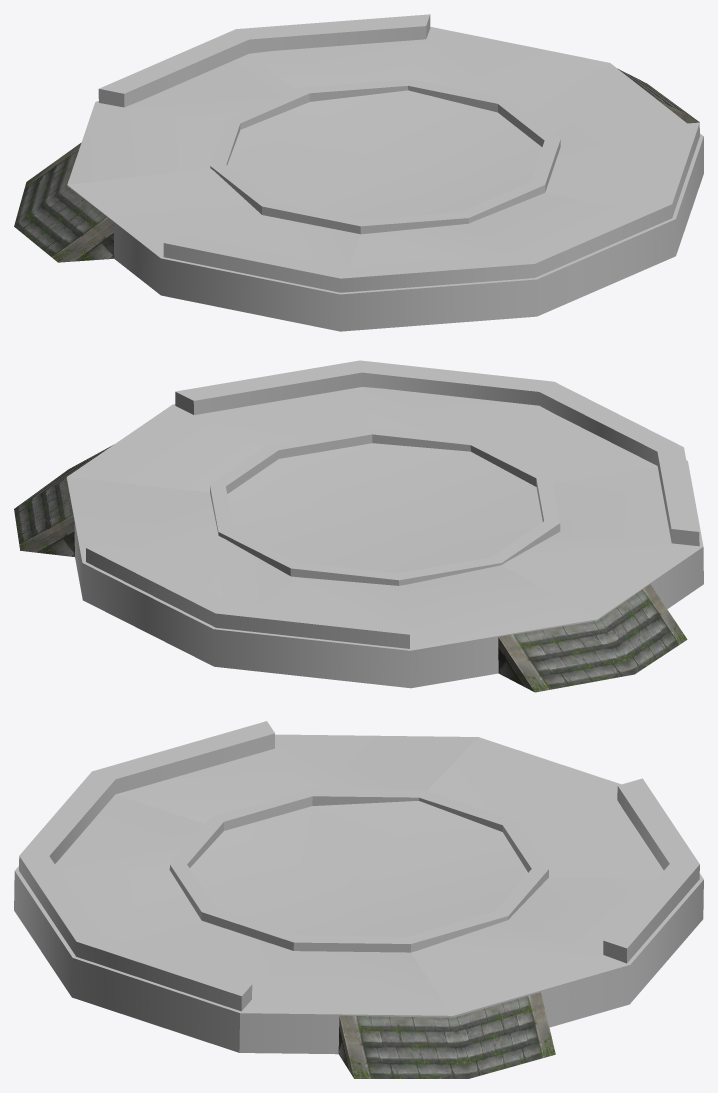
The model's file is environment_stone_shitai_001_a.FBX.
The picture shows the model from 3 angles, top to bottom: view 1: azimuth 30°, elevation 25°; view 2: azimuth 150°, elevation 25°; view 3: azimuth 270°, elevation 25°; orthographic projection. The views are drawn at different scales.
Parts seen in each view (by area): view 1: environment_stone_shizhen_001_a, environment_stone_shizhen_001_b; view 2: environment_stone_shizhen_001_a, environment_stone_shizhen_001_b; view 3: environment_stone_shizhen_001_a, environment_stone_shizhen_001_b.
Part boxes in pixels (box(x1,y1,x2,y2)): environment_stone_shizhen_001_a: box(67, 14, 703, 331); environment_stone_shizhen_001_b: box(14, 68, 699, 262); environment_stone_shizhen_001_a: box(66, 360, 703, 688); environment_stone_shizhen_001_b: box(14, 445, 687, 692); environment_stone_shizhen_001_a: box(14, 721, 703, 1054); environment_stone_shizhen_001_b: box(338, 992, 555, 1078).
Bounding box in the file's own units: 1813 × 144 × 1608.
